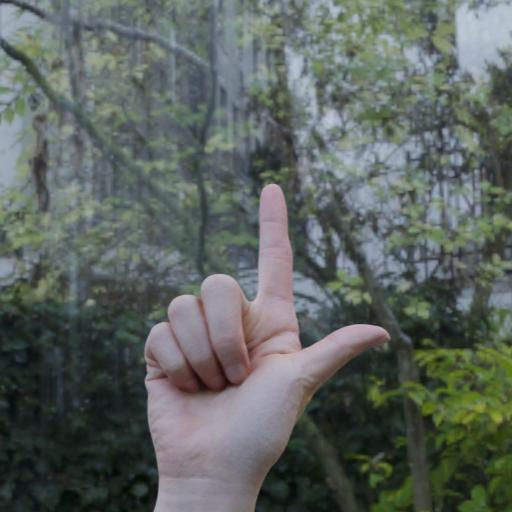L: (130, 172, 399, 512)
